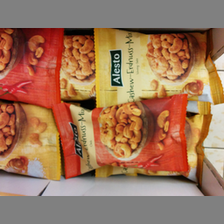nuts: (50, 93, 189, 179), (93, 28, 224, 107), (1, 28, 65, 112), (1, 100, 63, 181)
